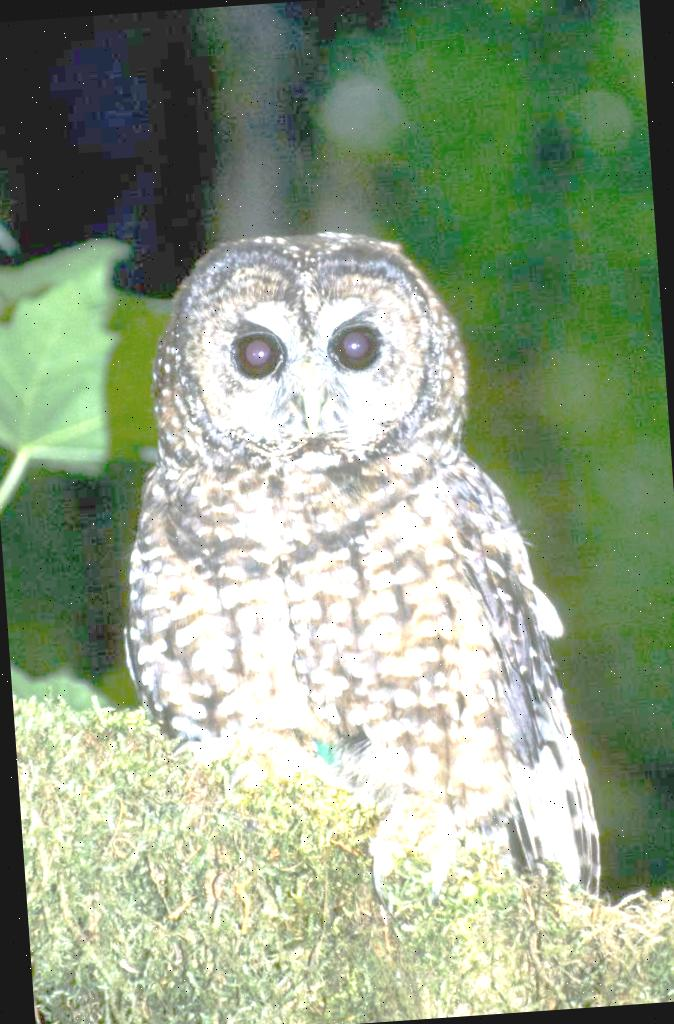Owl: (96, 214, 614, 960)
